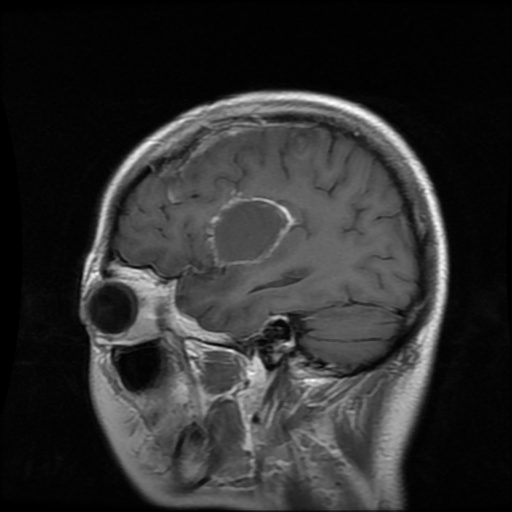glioma: (207, 195, 294, 267)
